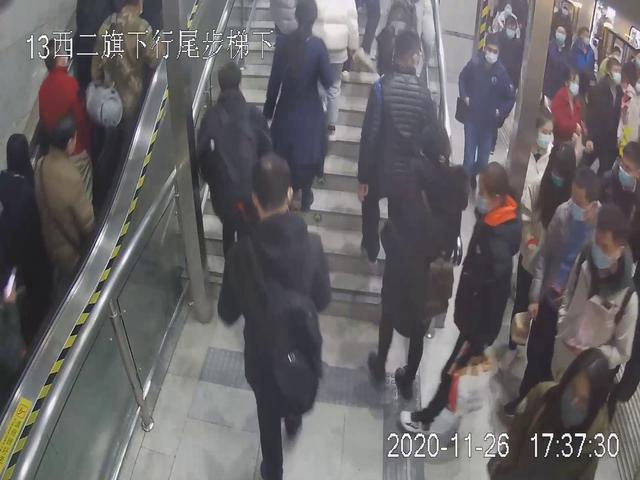person: (213, 155, 343, 478), (415, 160, 541, 437), (363, 120, 465, 391), (348, 23, 436, 258), (561, 197, 640, 442), (263, 7, 339, 211), (31, 109, 97, 309), (90, 1, 157, 156), (453, 34, 514, 175)
